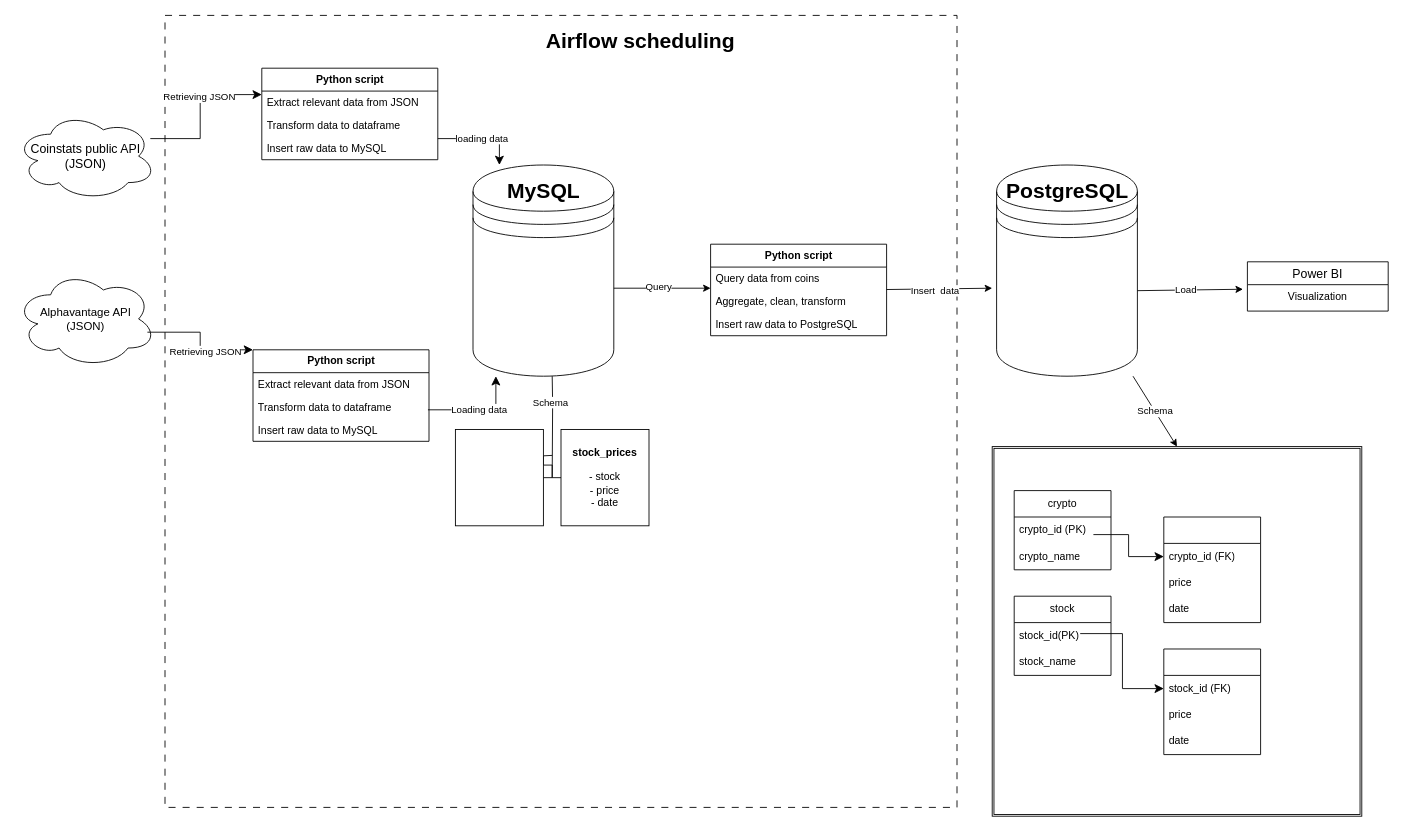
The diagram is 1404 pixels wide and 832 high, and some of its shapes have lost their labels. The shapes that lost their labels are listed below. From the top down, each one's box as (x1, y1, x2, y2) in pixels, then its label:
(472, 164, 614, 376): Staging Area (coins database)
(996, 164, 1137, 376): Data warehouse (warehouse database)
(455, 429, 543, 526): coin_prices - coin - price - date
(1163, 516, 1261, 623): crypto_prices
(1163, 648, 1261, 755): stock_prices
